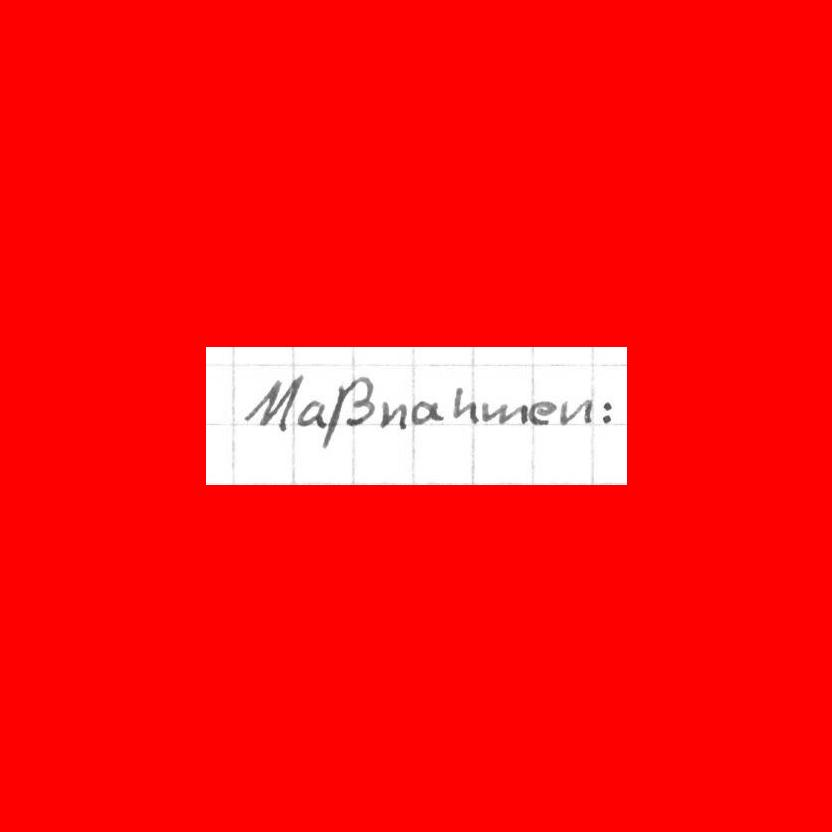Char: (320, 375, 375, 448), (241, 372, 303, 433), (480, 399, 528, 426), (451, 384, 479, 426), (559, 396, 594, 427), (376, 399, 408, 431), (295, 399, 330, 426), (527, 398, 559, 427), (409, 398, 446, 423), (599, 398, 615, 424)
